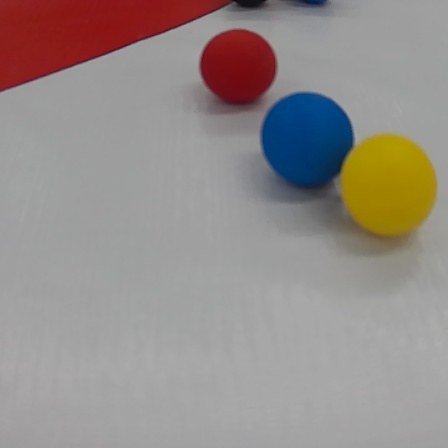blue: (262, 93, 351, 189)
red: (199, 27, 278, 104)
red_base: (0, 0, 228, 97)
yellow: (339, 130, 439, 238)
